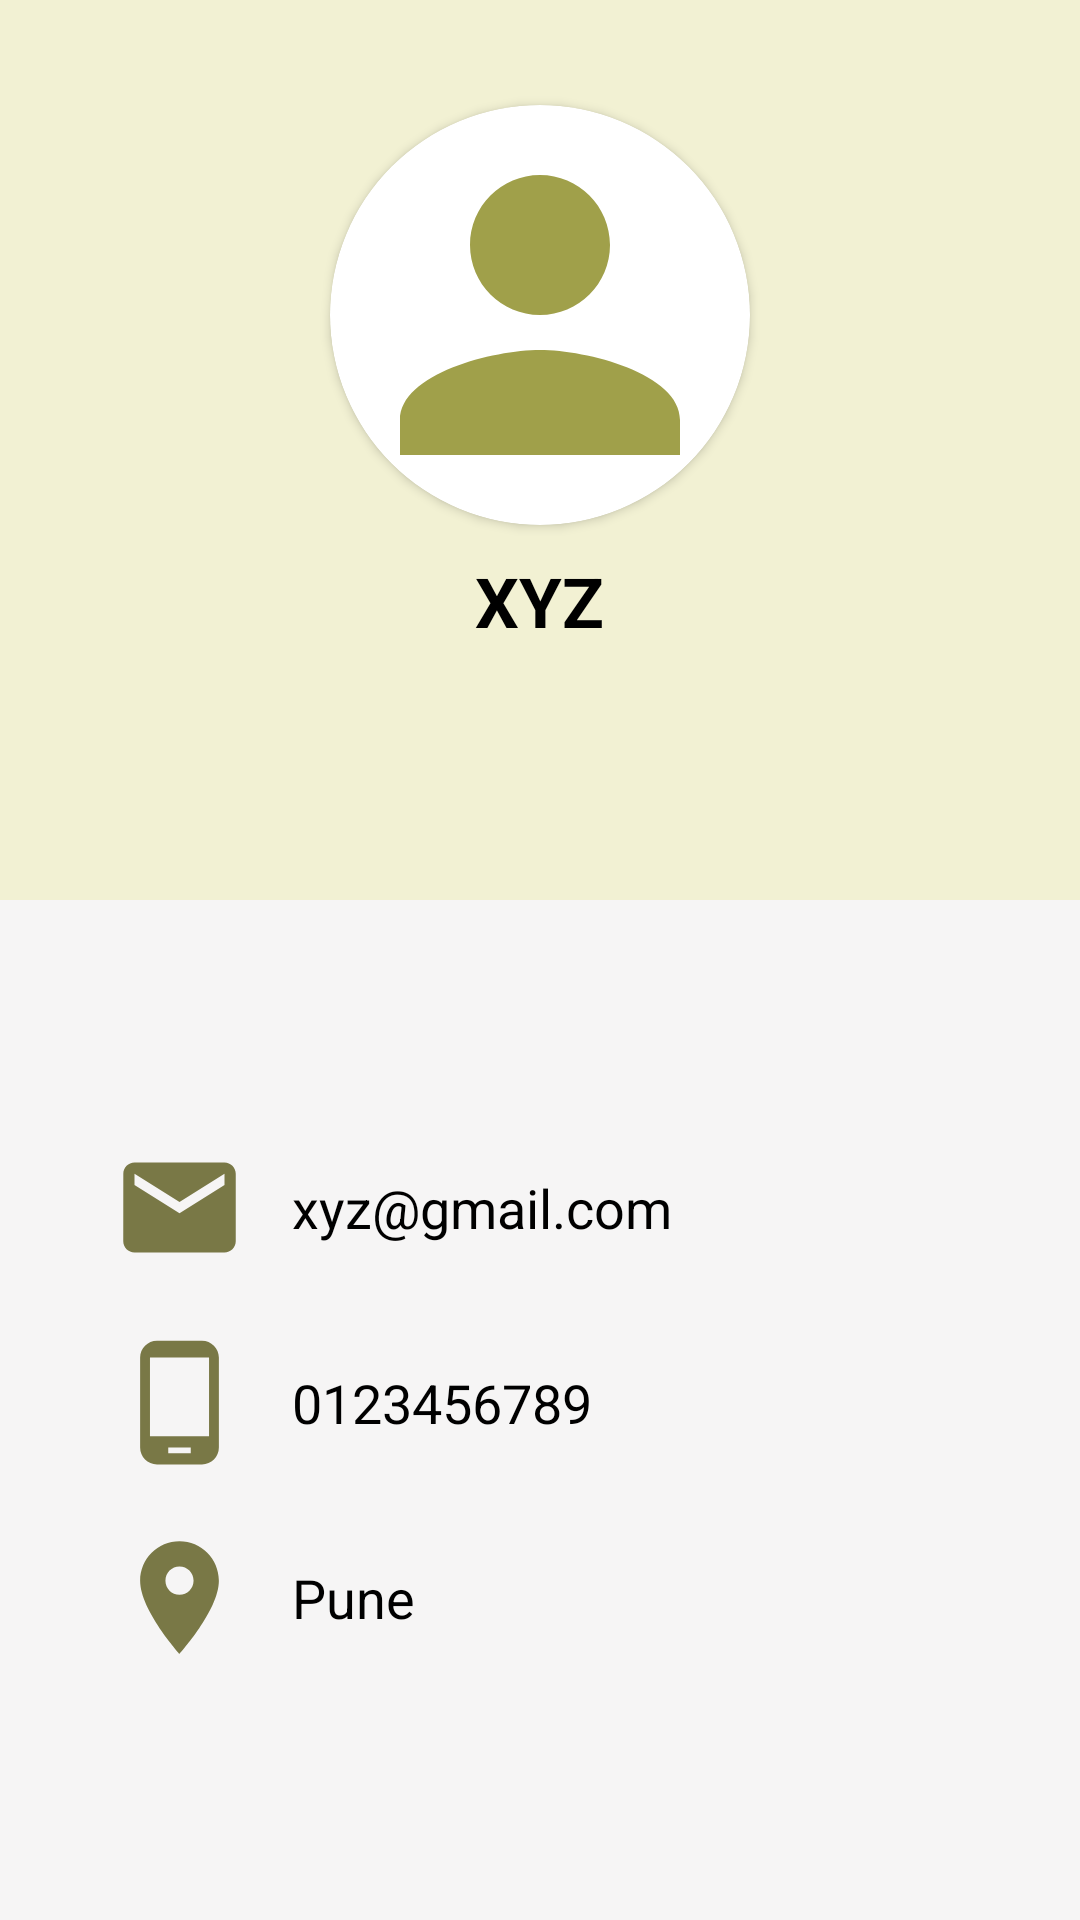

Where to tap for icons on this 1080*1920 app screen, as [x,y]:
location on: [179,1597]
phone android: [179,1402]
